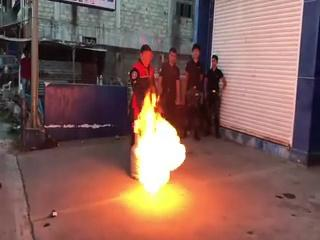Fire: (128, 82, 188, 198)
